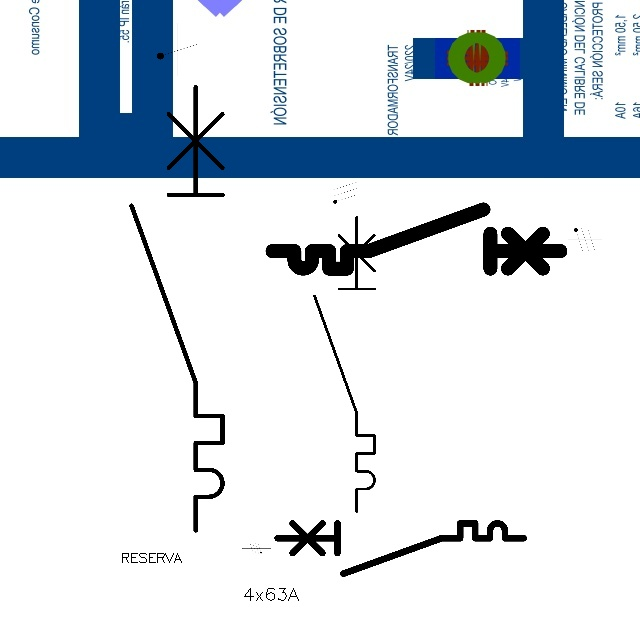interruptor_termomagnetico: (120, 75, 234, 541), (307, 209, 382, 518), (265, 202, 568, 276), (271, 517, 529, 580)
